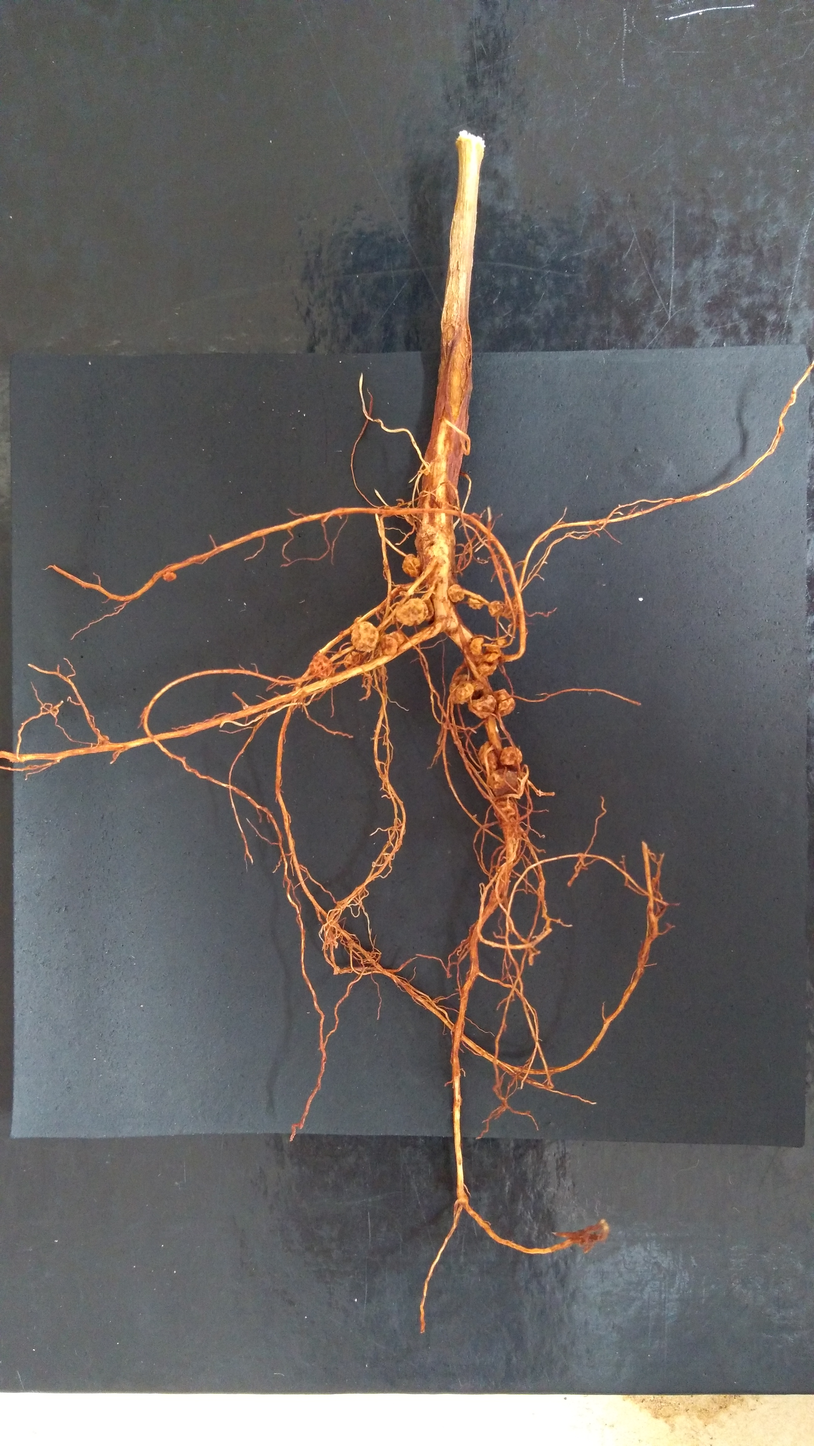nodule: (414, 524, 449, 563), (487, 769, 527, 800), (395, 598, 429, 627), (350, 622, 380, 653), (449, 673, 474, 705), (378, 630, 406, 656), (468, 694, 497, 719), (493, 688, 516, 717), (309, 652, 333, 679), (478, 740, 499, 769), (494, 798, 521, 820), (504, 596, 524, 625), (500, 746, 522, 767), (402, 553, 420, 578), (342, 650, 364, 670), (425, 574, 447, 594), (419, 594, 434, 622), (477, 660, 498, 676), (483, 645, 502, 662), (448, 584, 464, 603), (403, 506, 418, 526), (469, 637, 484, 657), (467, 595, 484, 610), (488, 601, 503, 617), (470, 679, 484, 694), (490, 637, 508, 648), (471, 512, 482, 527), (162, 571, 177, 581), (97, 735, 110, 745), (398, 590, 412, 598), (424, 470, 430, 475)
